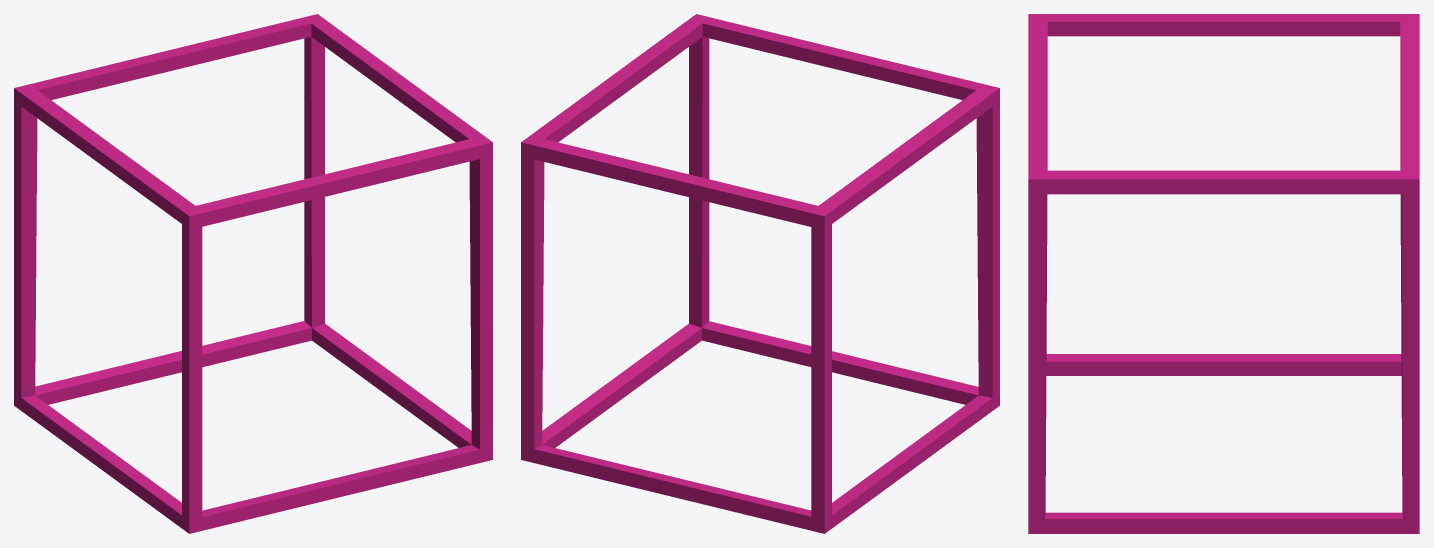
The model's file is Cube_magenta_1.fbx.
The picture shows the model from 3 angles, left to right: view 1: azimuth 30°, elevation 25°; view 2: azimuth 150°, elevation 25°; view 3: azimuth 270°, elevation 25°; orthographic projection. The views are drawn at different scales.
Visible parts, largest first — view 1: pCube2337; view 2: pCube2337; view 3: pCube2337.
Part boxes in pixels (x1,y1,x2,y2): pCube2337: (14,14,492,533); pCube2337: (521,14,999,533); pCube2337: (1028,14,1419,533).
Bounding box in the file's own units: 2.83 × 2.84 × 2.83.
